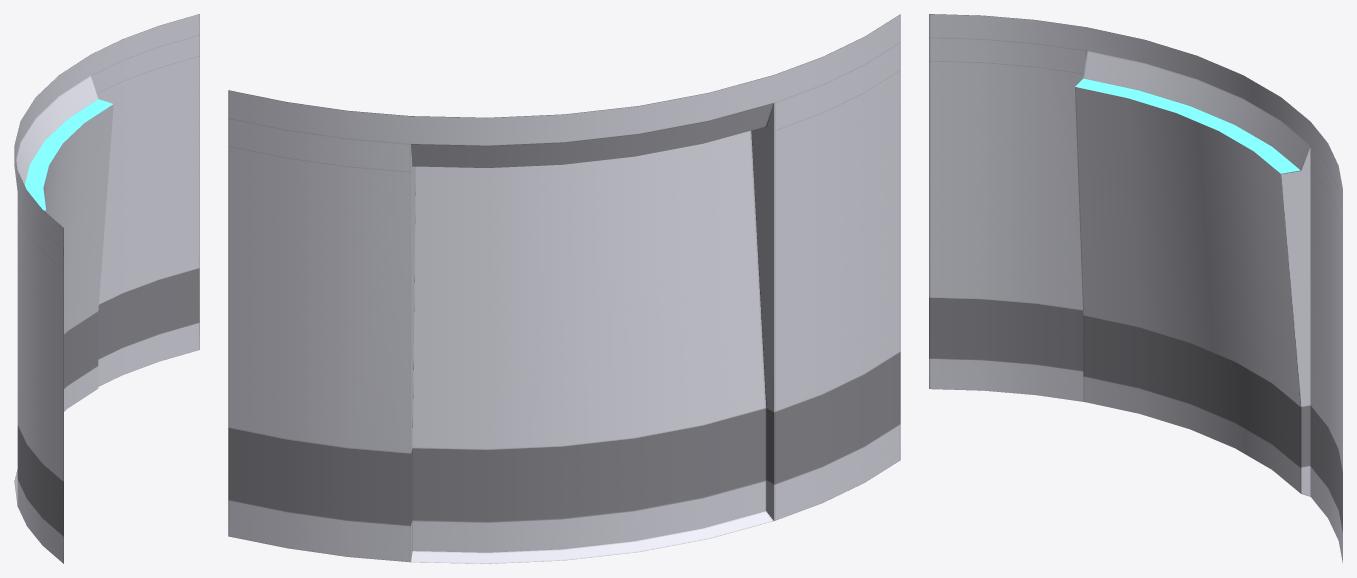
File: Wall_Arc_90_01.FBX
The picture shows the model from 3 angles, left to right: view 1: azimuth 30°, elevation 25°; view 2: azimuth 150°, elevation 25°; view 3: azimuth 270°, elevation 25°; orthographic projection. The views are drawn at different scales.
Parts seen in each view (by area): view 1: Wall_Arc_90_01; view 2: Wall_Arc_90_01; view 3: Wall_Arc_90_01.
Boxes of the visible parts, x1,y1,x2,y2 form: Wall_Arc_90_01: [14, 14, 199, 563]; Wall_Arc_90_01: [228, 14, 900, 563]; Wall_Arc_90_01: [929, 14, 1342, 562].
Bounding box in the file's own units: 3 × 3 × 3.
Materials: 2 (1 with a texture image).
